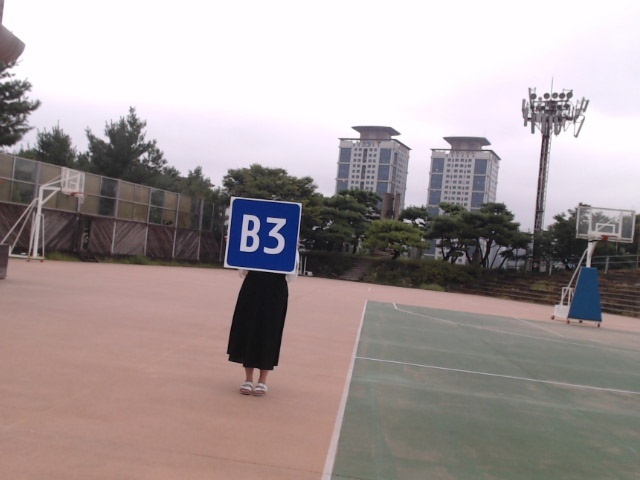delivery_b3: (224, 197, 302, 275)
